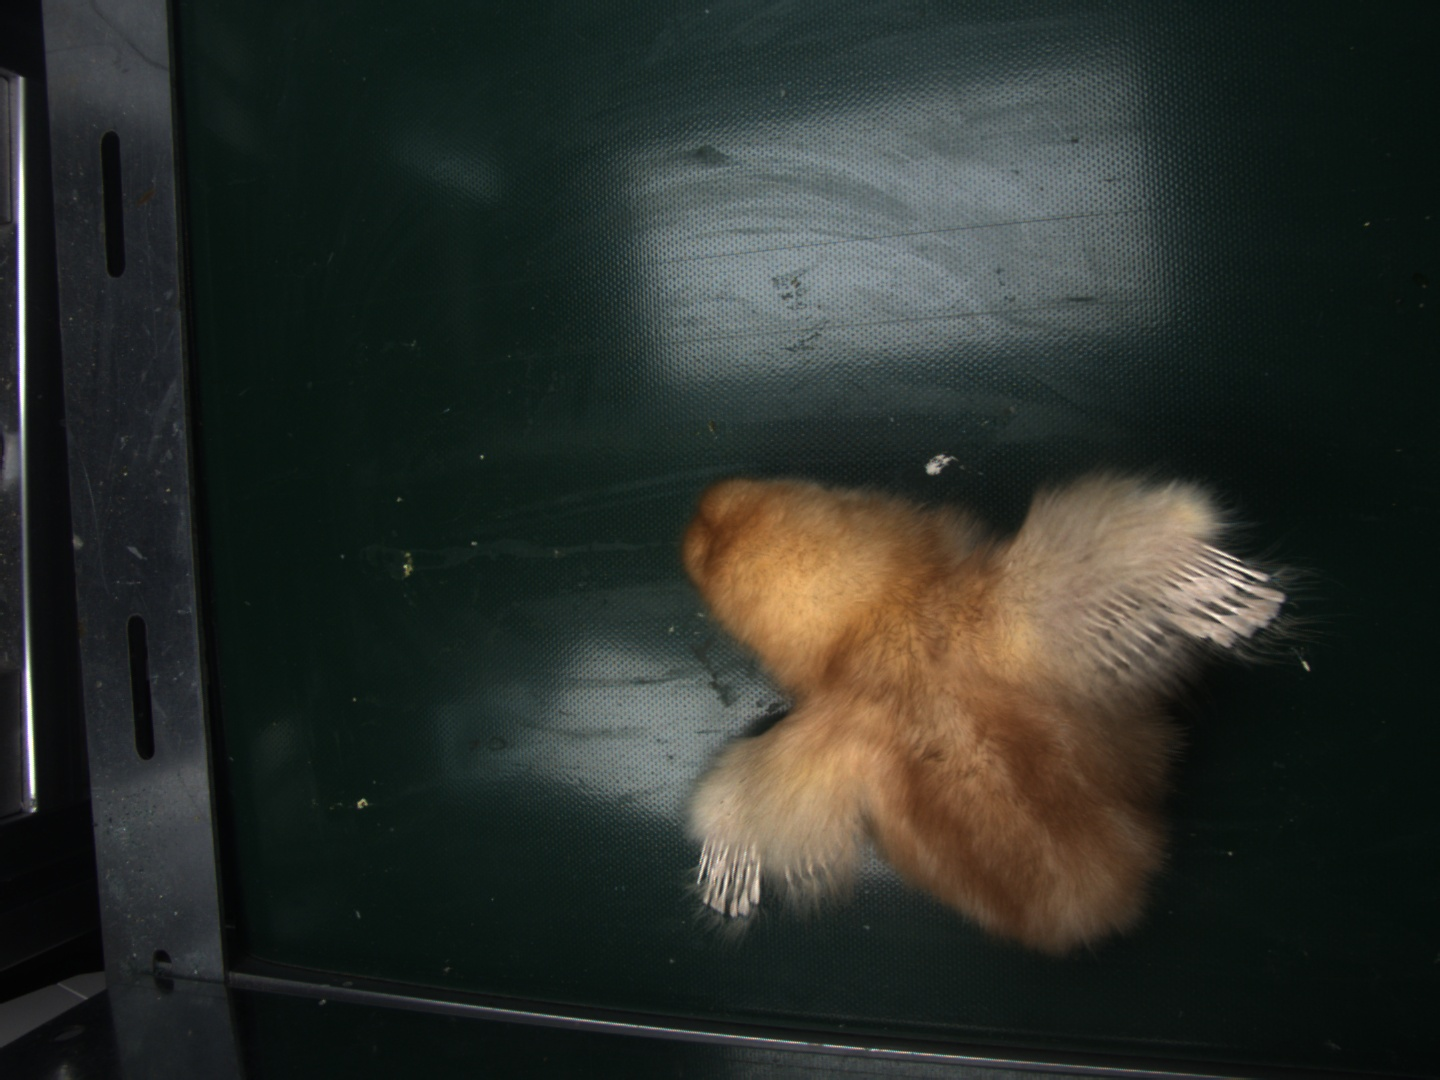female: (1177, 545, 1265, 638)
